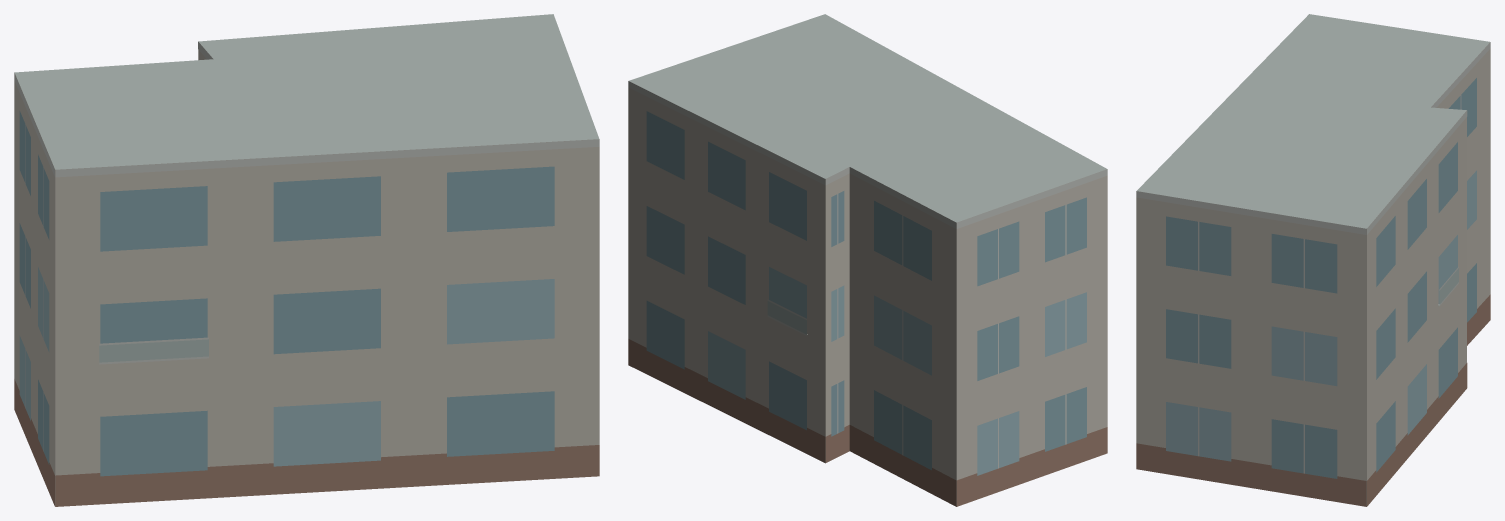
File: survey-upis-33021487.glb
The picture shows the model from 3 angles, left to right: view 1: azimuth 30°, elevation 25°; view 2: azimuth 150°, elevation 25°; view 3: azimuth 270°, elevation 25°; orthographic projection. The views are drawn at different scales.
Visible parts, largest first — view 1: survey-upis-33021487.tmp; view 2: survey-upis-33021487.tmp; view 3: survey-upis-33021487.tmp.
Boxes of the visible parts, x1=… form: survey-upis-33021487.tmp: x1=14, y1=14, x2=599, y2=506; survey-upis-33021487.tmp: x1=628, y1=14, x2=1107, y2=506; survey-upis-33021487.tmp: x1=1136, y1=14, x2=1490, y2=506.
Bounding box in the file's own units: 17.67 × 10.67 × 12.32.
